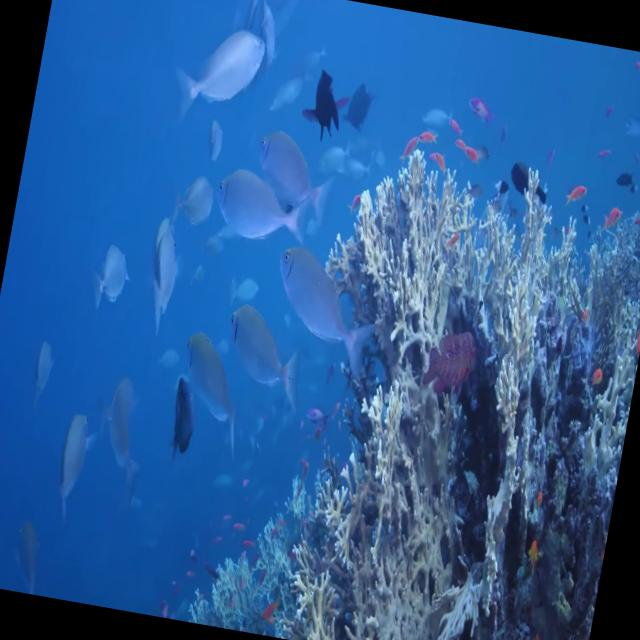fish: (254, 245, 385, 388), (160, 12, 272, 142), (164, 324, 255, 454), (206, 162, 312, 268), (210, 302, 306, 418), (243, 123, 337, 226), (91, 362, 162, 497), (134, 206, 199, 343), (50, 401, 103, 516), (155, 365, 214, 466), (414, 320, 484, 401), (79, 240, 134, 332), (500, 142, 568, 216), (298, 56, 356, 142), (159, 156, 223, 228), (18, 332, 62, 426), (329, 66, 386, 136), (254, 61, 306, 128), (463, 82, 498, 130), (416, 99, 458, 138), (202, 114, 230, 170), (452, 131, 488, 166)
